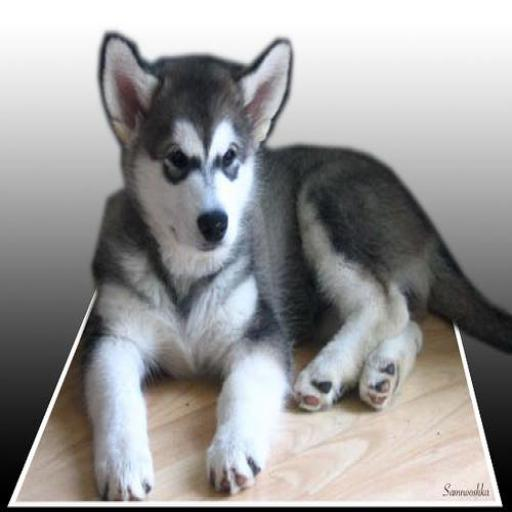dog_face: (99, 21, 292, 261)
